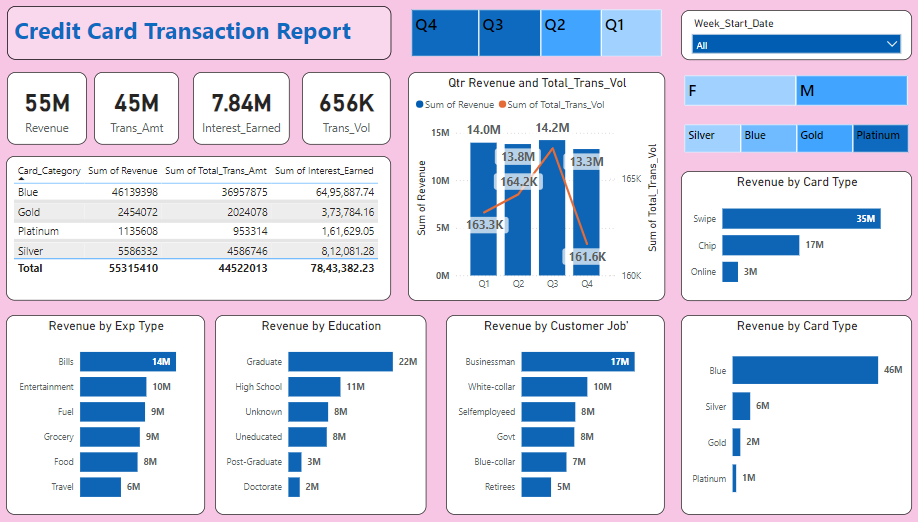

This screenshot's page, from the dashboard's own definition file:
{"tool":"powerbi","page":{"name":"CC_Transaction","canvas":[1280,720],"ordinal":1},"visuals":[{"type":"textbox","box":[10.8,10.8,528.7,74.2],"z":0},{"type":"lineStackedColumnComboChart","title":"Qtr Revenue and Total_Trans_Vol","fields":{"Category":["credit_card.Qtr"],"Y":["Sum(credit_card.Revenue)"],"Y2":["Sum(credit_card.Total_Trans_Vol)"]},"box":[562.7,102,354,315.4],"z":1000},{"type":"barChart","title":"Revenue by Exp Type","fields":{"Y":["Sum(credit_card.Revenue)"],"Category":["credit_card.Exp Type"]},"box":[9.3,435.9,273.6,284.4],"z":2000},{"type":"barChart","title":"Revenue by Education","fields":{"Y":["Sum(credit_card.Revenue)"],"Category":["customer.Education_Level"]},"box":[296.8,435.9,290.6,284.4],"z":3000},{"type":"barChart","title":"Revenue by Customer Job''","fields":{"Y":["Sum(credit_card.Revenue)"],"Category":["customer.Customer_Job"]},"box":[615.3,435.9,301.4,284.4],"z":4000},{"type":"barChart","title":"Revenue by Card Type","fields":{"Category":["credit_card.Card_Category"],"Y":["Sum(credit_card.Revenue)"]},"box":[960,435.9,296.8,284.4],"z":5000},{"type":"barChart","title":"Revenue by Card Type","fields":{"Y":["Sum(credit_card.Revenue)"],"Category":["credit_card.Use Chip"]},"box":[960,238.1,296.8,179.3],"z":6000},{"type":"tableEx","fields":{"Values":["credit_card.Card_Category","Sum(credit_card.Revenue)","Sum(credit_card.Total_Trans_Amt)","Sum(credit_card.Interest_Earned)"]},"box":[9.3,218,530.2,199.4],"z":7000},{"type":"card","fields":{"Values":["Sum(credit_card.Revenue)"]},"box":[10.8,102,109.8,100.5],"z":8000},{"type":"card","fields":{"Values":["Sum(credit_card.Total_Trans_Amt)"]},"box":[131.4,102,117.5,100.5],"z":9000},{"type":"card","fields":{"Values":["Sum(credit_card.Interest_Earned)"]},"box":[267.4,102,132.9,100.5],"z":10000},{"type":"card","fields":{"Values":["Sum(credit_card.Total_Trans_Vol)"]},"box":[417.4,102,122.1,100.5],"z":11000},{"type":"slicer","fields":{"Values":["credit_card.Week_Start_Date"]},"box":[960,30.9,296.8,85],"z":12000},{"type":"treemap","fields":{"Group":["credit_card.Qtr"],"Values":["Avg(credit_card.Client_Num)"]},"box":[562.7,17,354,85],"z":13000},{"type":"treemap","fields":{"Values":["Avg(credit_card.Client_Num)"],"Group":["customer.Gender"]},"box":[960,128.3,296.8,47.9],"z":14000},{"type":"treemap","fields":{"Values":["Avg(credit_card.Client_Num)"],"Group":["credit_card.Card_Category"]},"box":[960,177.8,296.8,47.9],"z":15000}]}

Visuals, with their boxes in screenshot pixels (x1, y1, x2, y2), scaled from the page's 1280x720 canvas onto the 918x522 screenshot:
textbox: {"left": 8, "top": 8, "right": 387, "bottom": 62}
"Qtr Revenue and Total_Trans_Vol" lineStackedColumnComboChart: {"left": 404, "top": 74, "right": 657, "bottom": 303}
"Revenue by Exp Type" barChart: {"left": 7, "top": 316, "right": 203, "bottom": 521}
"Revenue by Education" barChart: {"left": 213, "top": 316, "right": 421, "bottom": 521}
"Revenue by Customer Job''" barChart: {"left": 441, "top": 316, "right": 657, "bottom": 521}
"Revenue by Card Type" barChart: {"left": 688, "top": 316, "right": 901, "bottom": 521}
"Revenue by Card Type" barChart: {"left": 688, "top": 173, "right": 901, "bottom": 303}
tableEx - credit_card.Card_Category x Sum(credit_card.Revenue): {"left": 7, "top": 158, "right": 387, "bottom": 303}
card - Sum(credit_card.Revenue): {"left": 8, "top": 74, "right": 86, "bottom": 147}
card - Sum(credit_card.Total_Trans_Amt): {"left": 94, "top": 74, "right": 179, "bottom": 147}
card - Sum(credit_card.Interest_Earned): {"left": 192, "top": 74, "right": 287, "bottom": 147}
card - Sum(credit_card.Total_Trans_Vol): {"left": 299, "top": 74, "right": 387, "bottom": 147}
slicer - credit_card.Week_Start_Date: {"left": 688, "top": 22, "right": 901, "bottom": 84}
treemap - credit_card.Qtr x Avg(credit_card.Client_Num): {"left": 404, "top": 12, "right": 657, "bottom": 74}
treemap - Avg(credit_card.Client_Num) x customer.Gender: {"left": 688, "top": 93, "right": 901, "bottom": 128}
treemap - Avg(credit_card.Client_Num) x credit_card.Card_Category: {"left": 688, "top": 129, "right": 901, "bottom": 164}
